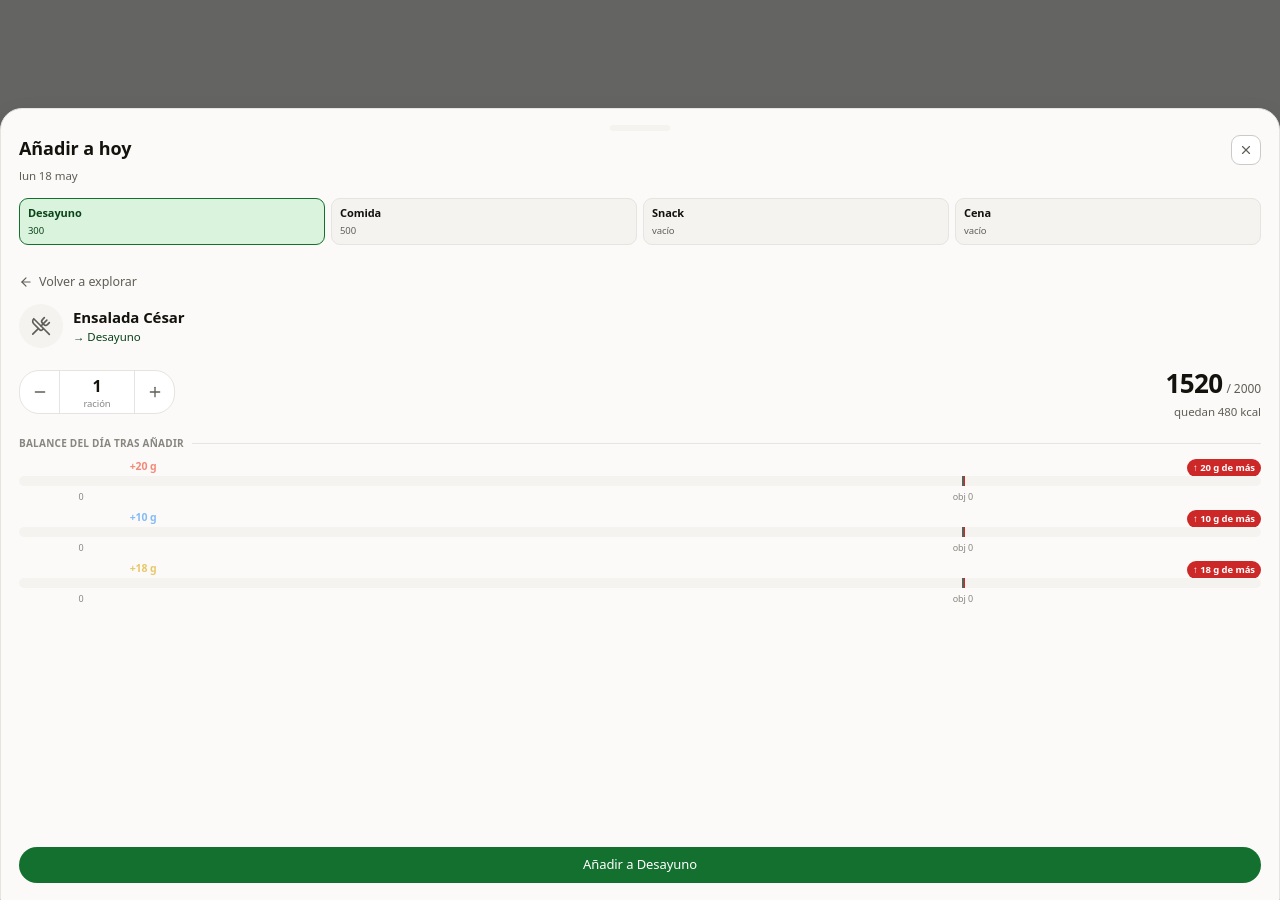
Test case: AddToDaySheet › initialSelection (preselected item) › keeps "back" wired to explore (unlike edit mode, which is locked)
The image size is (1280, 900).
Step 1. Click the button "Volver a explorar" → (78, 282), box [19, 273, 137, 292]
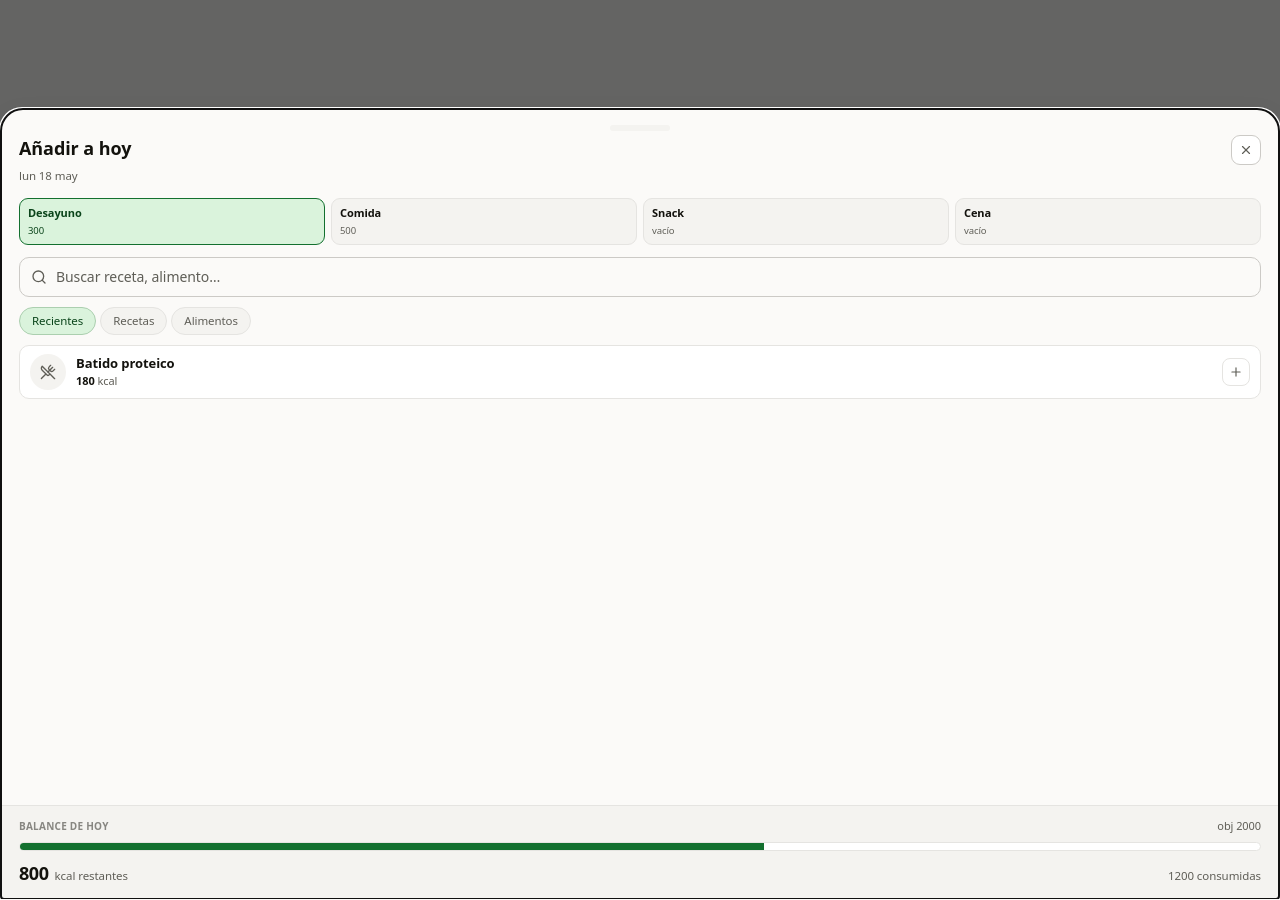
Check: the field with placeholder "Buscar receta, alimento…" is shown, box [19, 257, 1261, 297]
Check: the tab "Recetas" is shown, box [100, 307, 167, 335]
